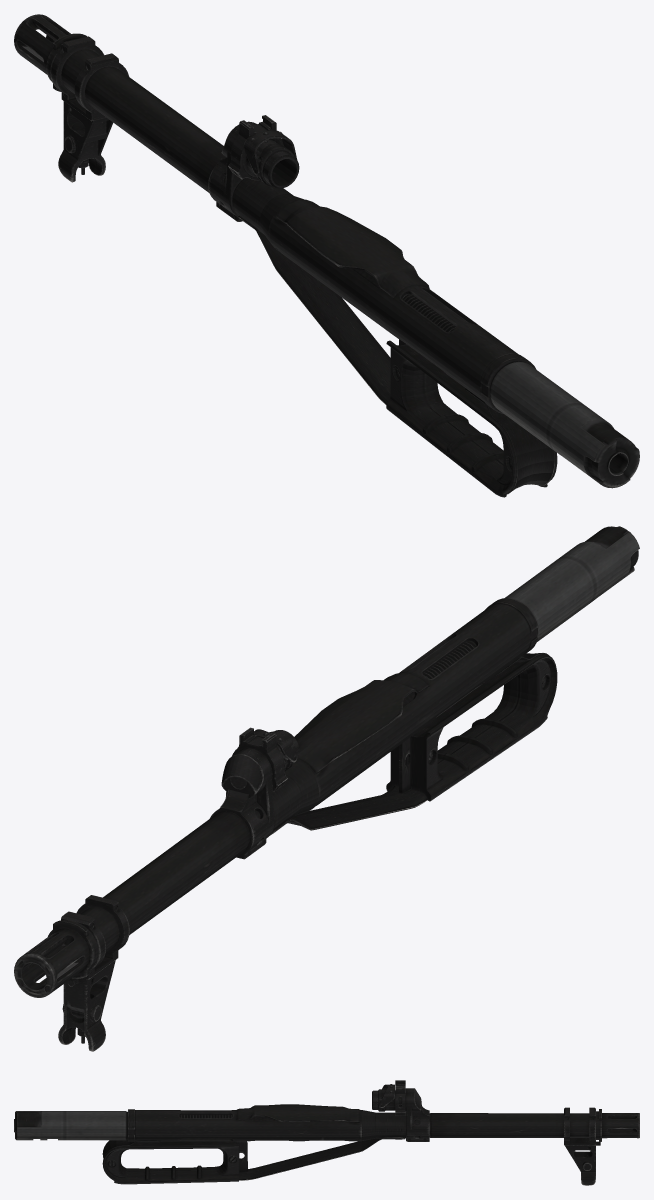
3 views of the same model, one above another, from view 1: azimuth 30°, elevation 25°; view 2: azimuth 150°, elevation 25°; view 3: azimuth 270°, elevation 25° (orthographic). The views are drawn at different scales.
Visible parts, largest first — view 1: TW_64639a9aab86f8fd4300146c_PZ_Import; view 2: TW_64639a9aab86f8fd4300146c_PZ_Import; view 3: TW_64639a9aab86f8fd4300146c_PZ_Import.
Boxes of the visible parts, x1,y1,x2,y2 form: TW_64639a9aab86f8fd4300146c_PZ_Import: (14, 14, 639, 497); TW_64639a9aab86f8fd4300146c_PZ_Import: (14, 526, 639, 1051); TW_64639a9aab86f8fd4300146c_PZ_Import: (14, 1080, 639, 1185).
Size of the model in its own units: 0.0235 by 0.3698 by 0.064.
Materials: 1 (1 with a texture image).
